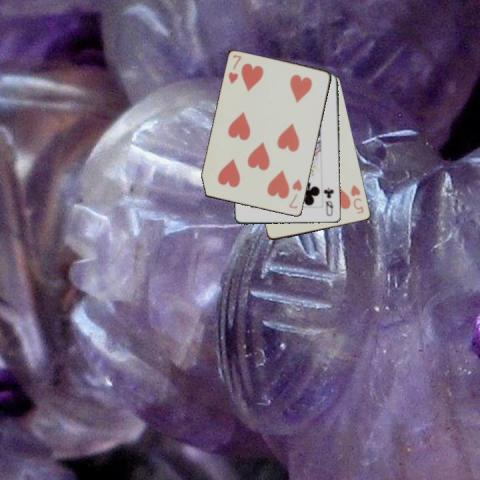5h: (348, 182, 365, 215)
7h: (225, 52, 243, 86), (286, 176, 303, 210)
Qc: (322, 185, 335, 218)
